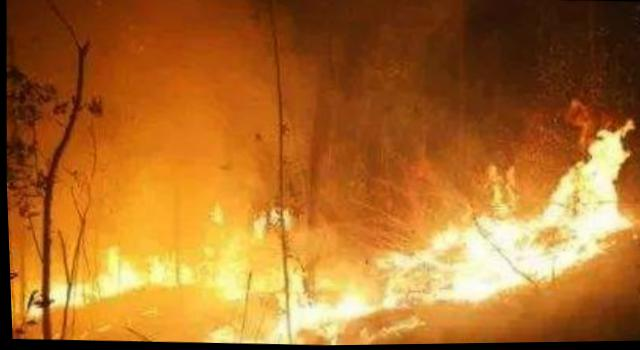fire: (3, 98, 640, 347)
